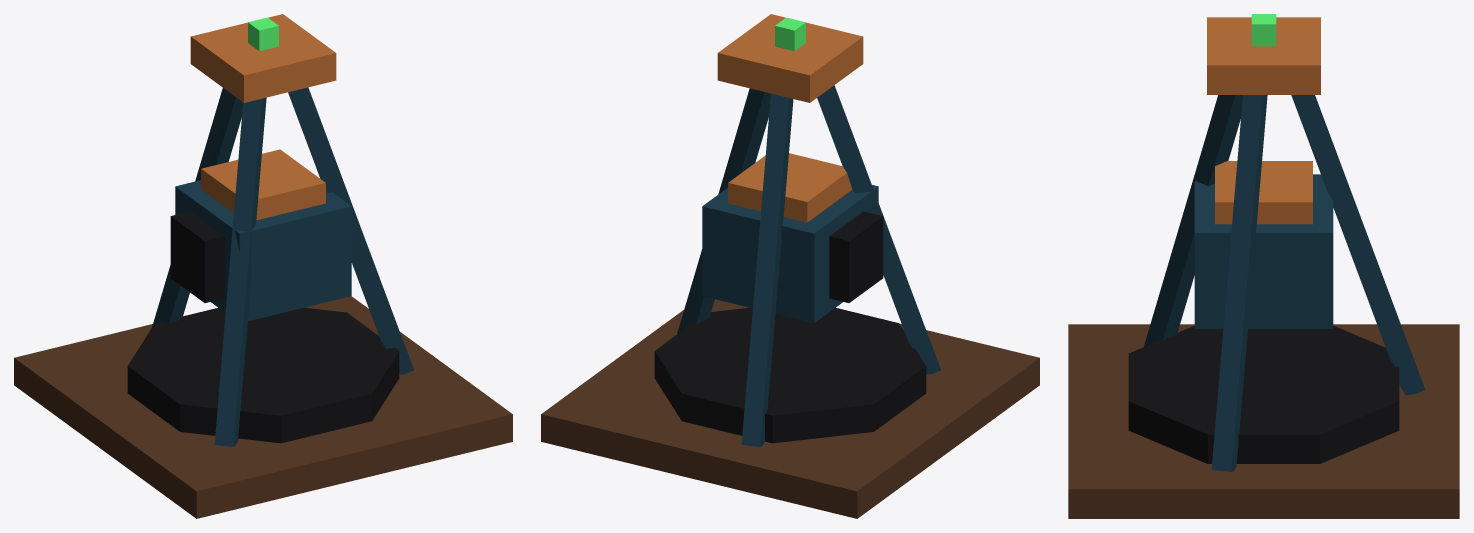
File: extractor_1.obj
The picture shows the model from 3 angles, left to right: view 1: azimuth 30°, elevation 25°; view 2: azimuth 150°, elevation 25°; view 3: azimuth 270°, elevation 25°; orthographic projection. The views are drawn at different scales.
Parts seen in each view (by area): view 1: Body, Lamp; view 2: Body, Lamp; view 3: Body, Lamp.
Part boxes in pixels (<box>): Body: <box>14,14,512,518</box>; Lamp: <box>248,17,278,51</box>; Body: <box>541,14,1039,518</box>; Lamp: <box>775,17,805,51</box>; Body: <box>1068,17,1459,518</box>; Lamp: <box>1251,14,1276,46</box>.
Bounding box in the file's own units: 0.96 × 1.13 × 0.96.
